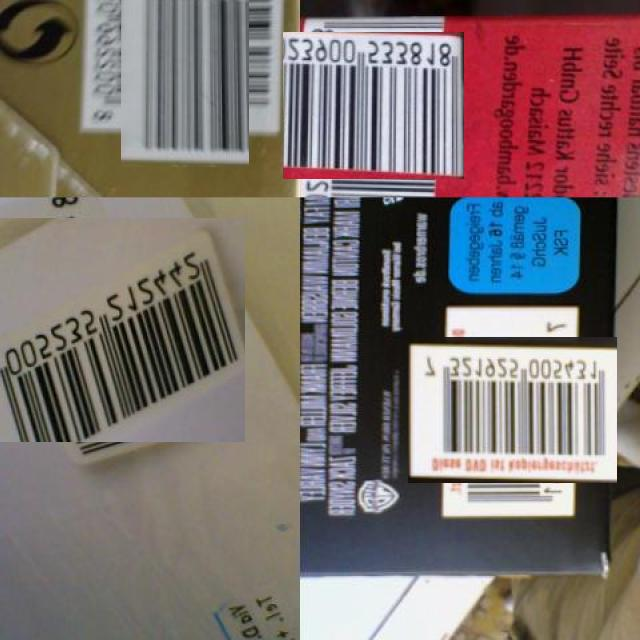Barcode: (0, 207, 235, 452), (424, 320, 601, 499), (291, 24, 456, 188), (101, 0, 268, 148)
